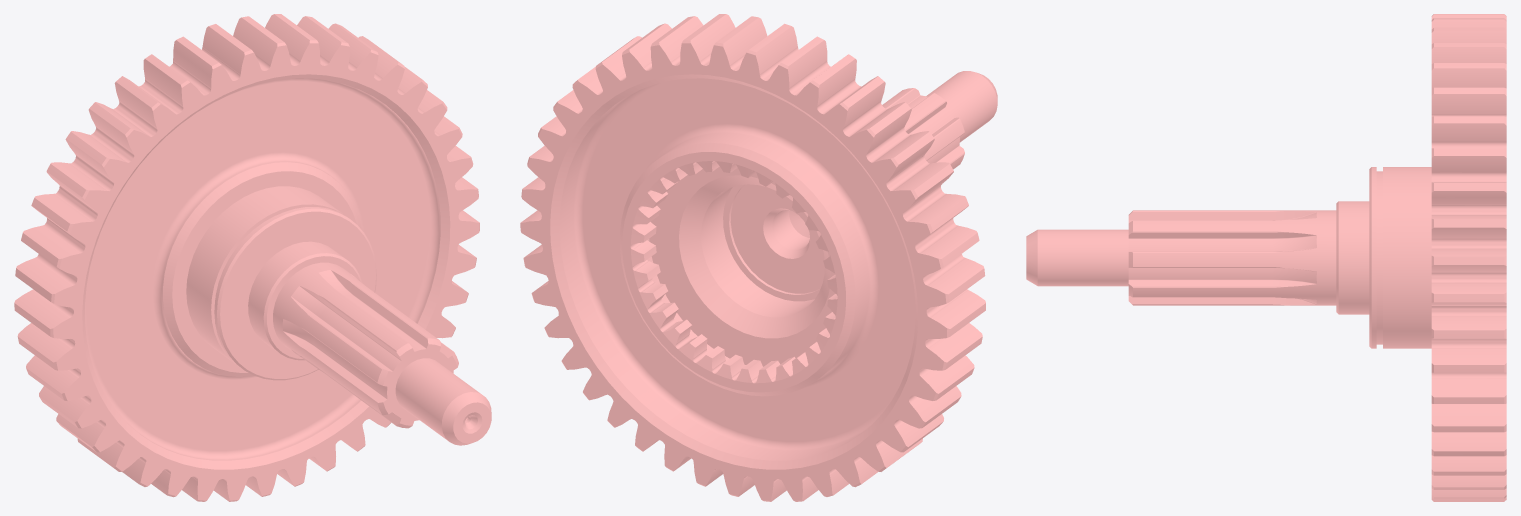
The model's file is shaft.gltf.
The picture shows the model from 3 angles, left to right: view 1: azimuth 30°, elevation 25°; view 2: azimuth 150°, elevation 25°; view 3: azimuth 270°, elevation 25°; orthographic projection.
Bounding box in the file's own units: 215 × 215 × 211.
